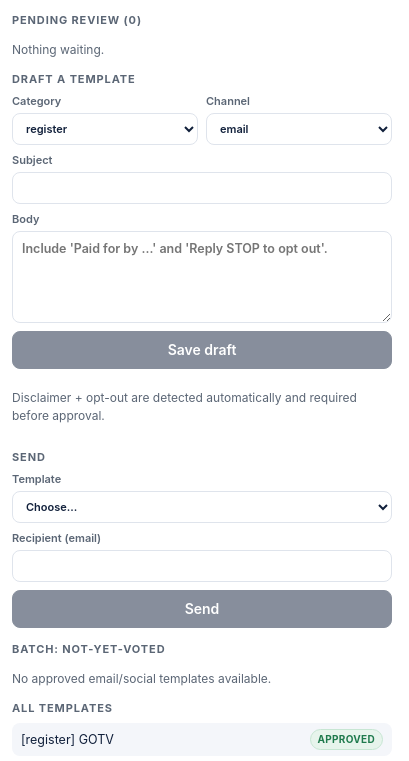
CommsPanel › hides the access code on an SMS send in clerk mode (session re-auths)
This screenshot has width=409, height=761.
Expected: the heading "Send" is shown, [12,450,46,464]
Select "[register/sms] GOTV" in the dropdown labelled "Template" at (202, 507), box [12,491,392,523]
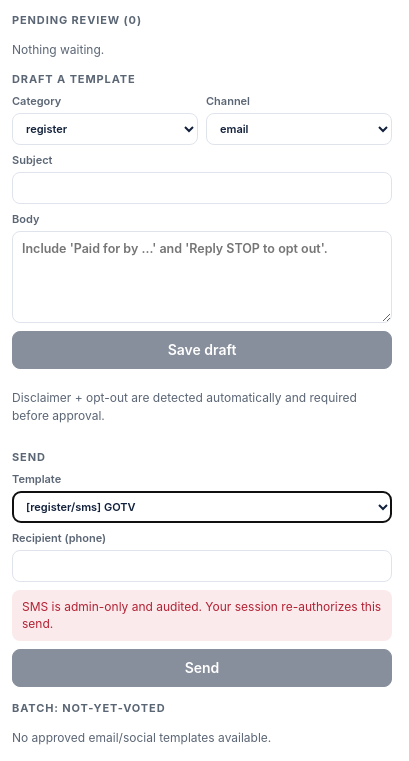
Now the text "Your session re-authorizes" is shown, box [22,599,381,631]
